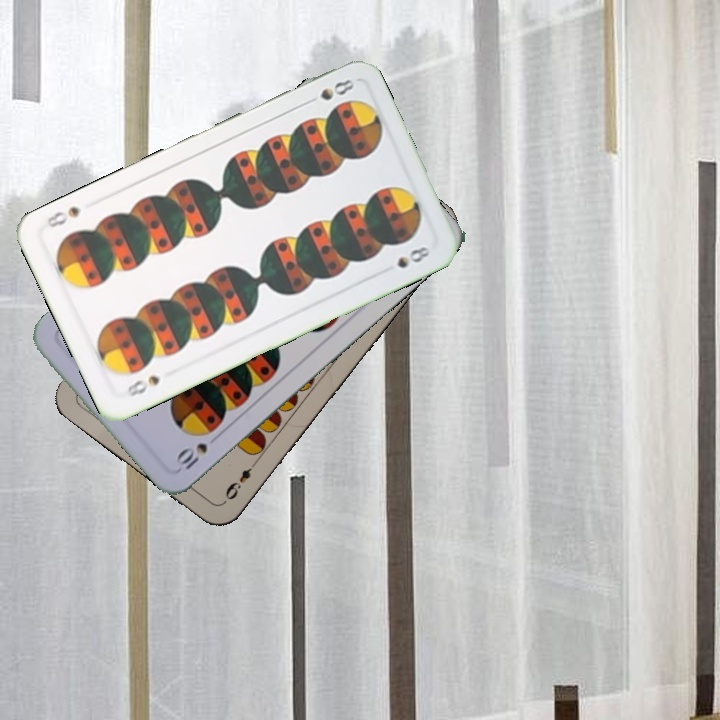E9: (221, 457, 261, 503)
S10: (172, 438, 211, 473)
S8: (316, 75, 357, 103), (123, 371, 163, 399)
